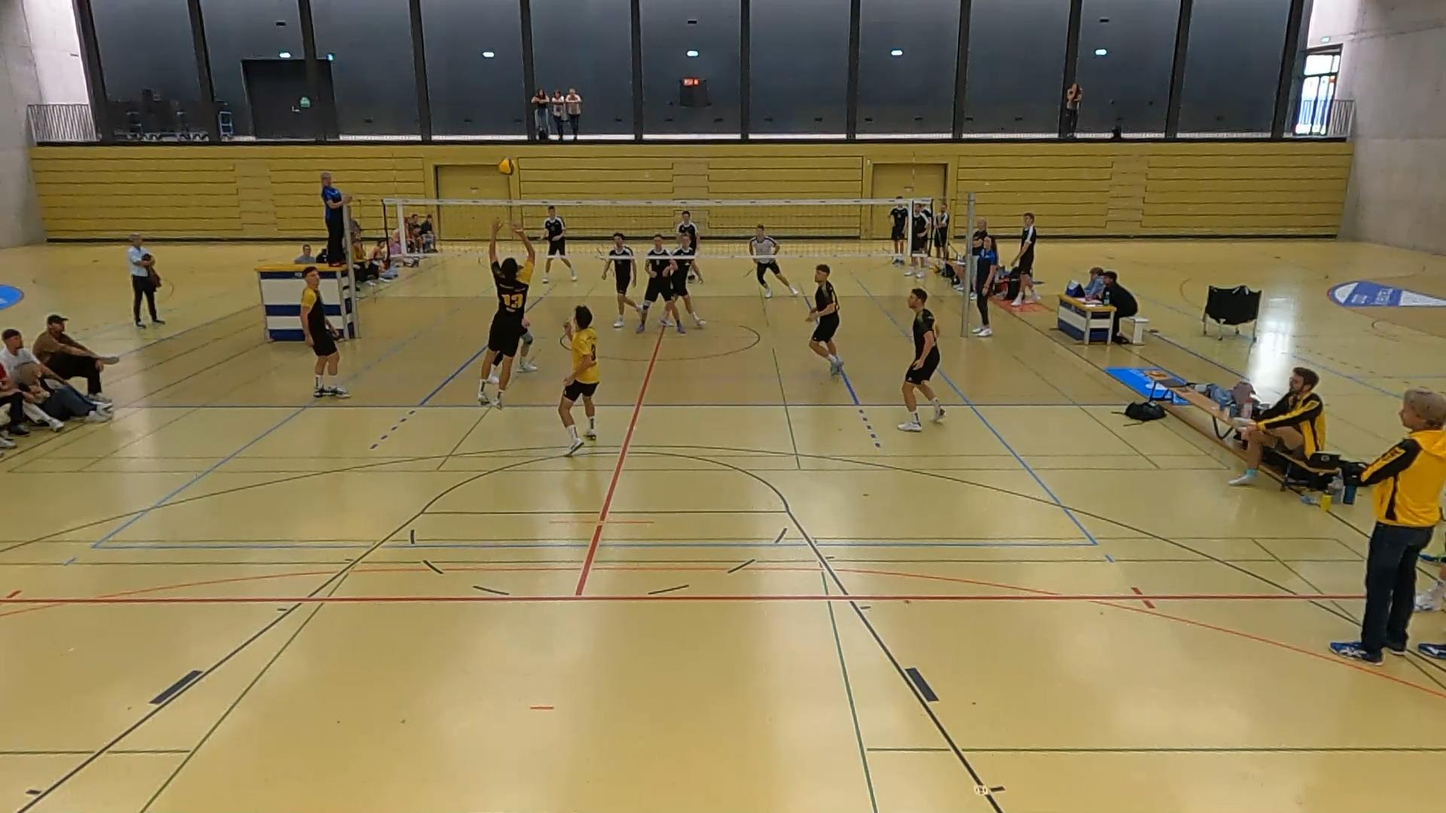Player: (898, 288, 944, 431), (300, 266, 349, 397), (558, 305, 599, 455), (636, 234, 685, 333), (808, 263, 843, 375), (602, 232, 641, 327), (749, 224, 799, 297), (670, 232, 706, 332), (542, 206, 577, 283), (516, 316, 537, 373), (676, 210, 699, 253)
Receive: (466, 218, 550, 412)
ball: (495, 153, 516, 179)
